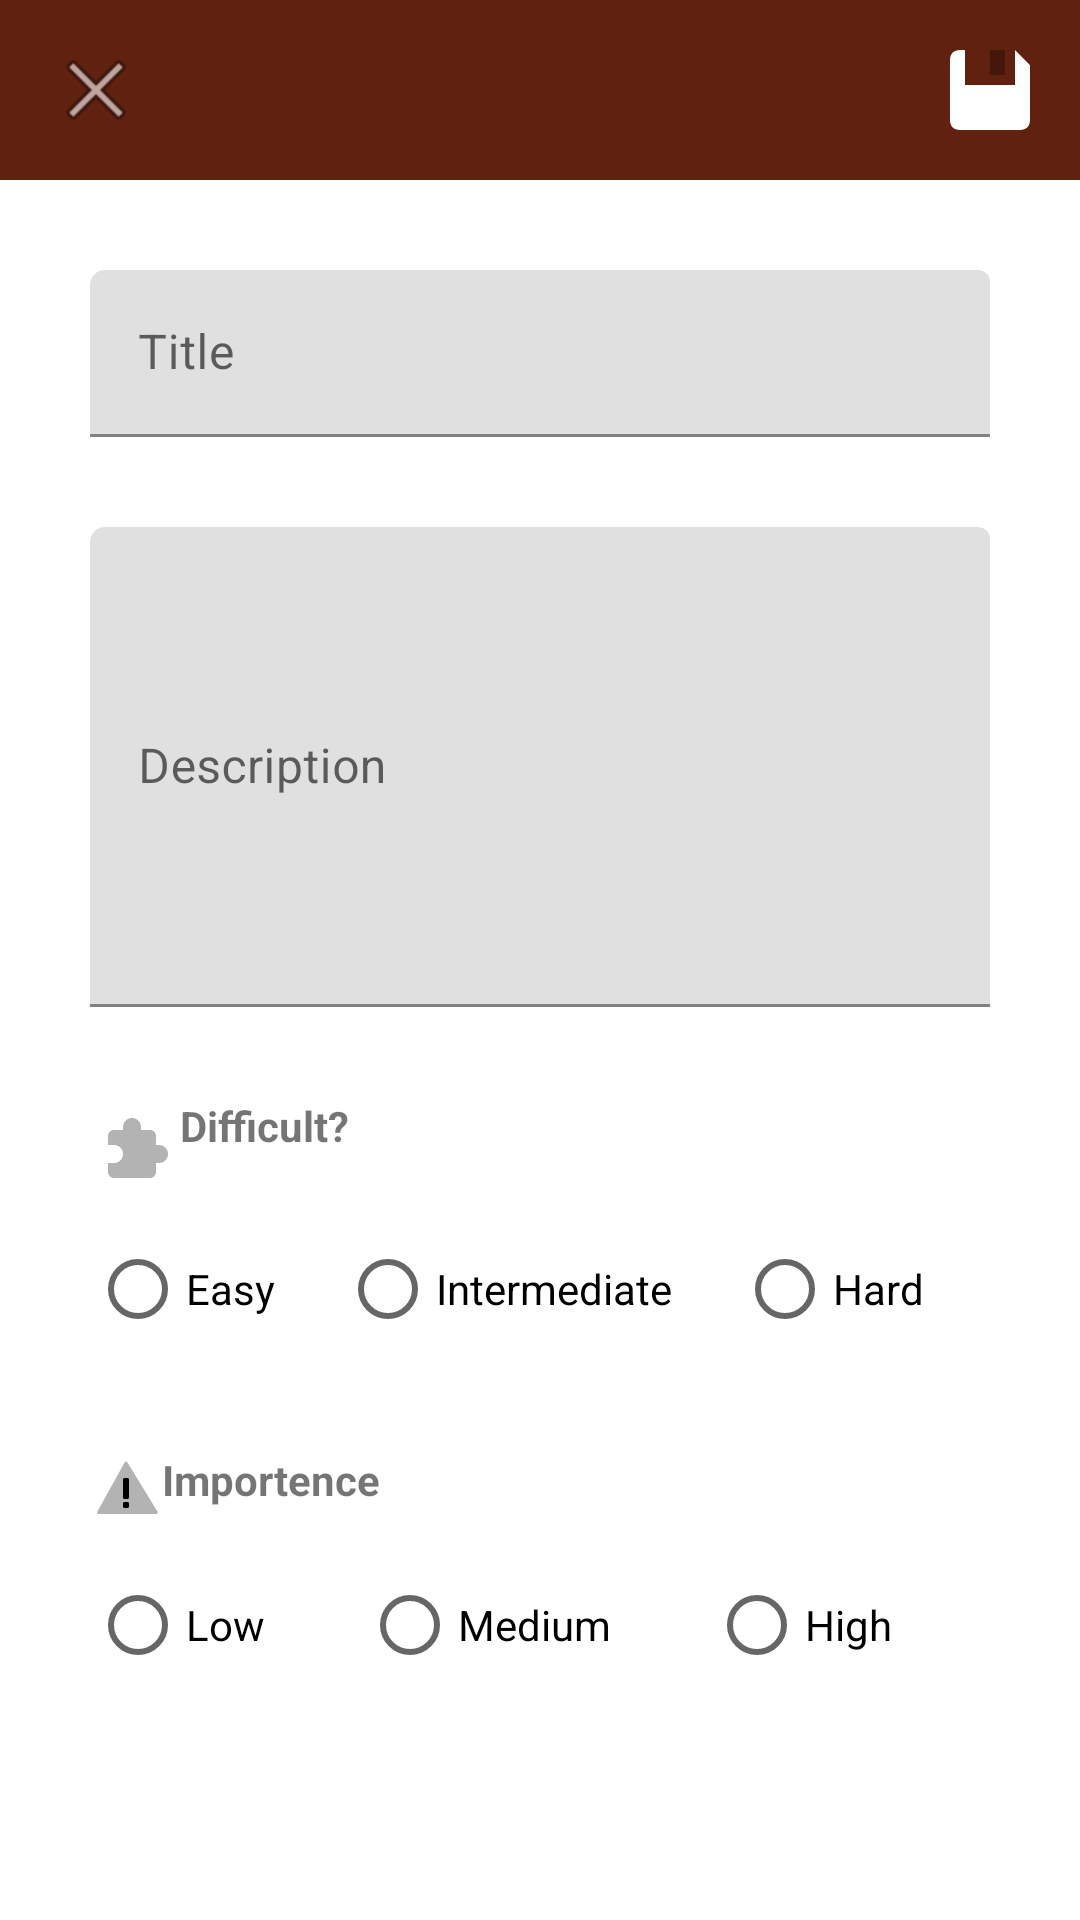

Icon click points for this 1080px×1920px phone screenshot, format [x,y]:
close: [96,90]
save: [990,90]
